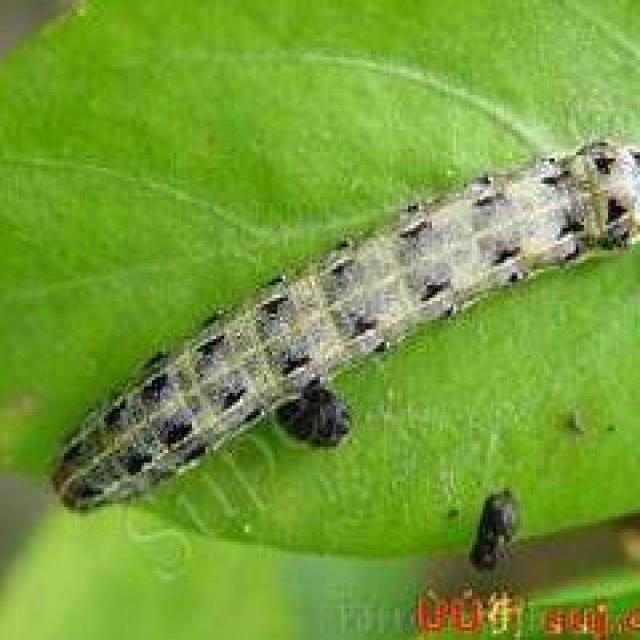armyworm: (42, 115, 640, 555)
